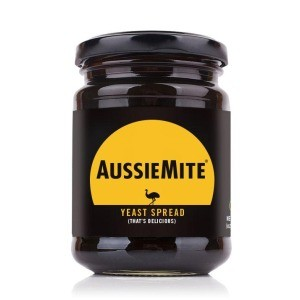yeast spread_brain food: (77, 101, 235, 221)
